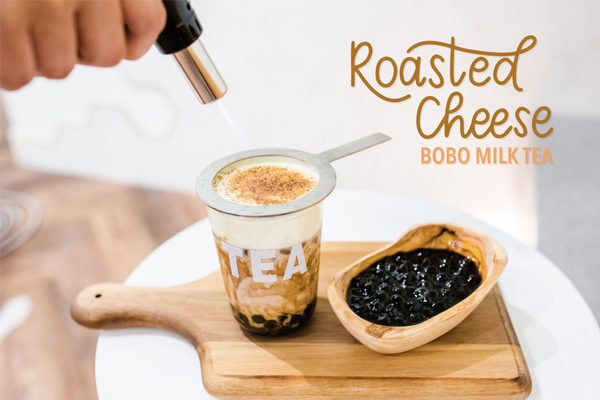pizza: (195, 132, 394, 337), (194, 143, 337, 337)
salad: (188, 131, 393, 184)
sushi: (327, 223, 508, 354)
